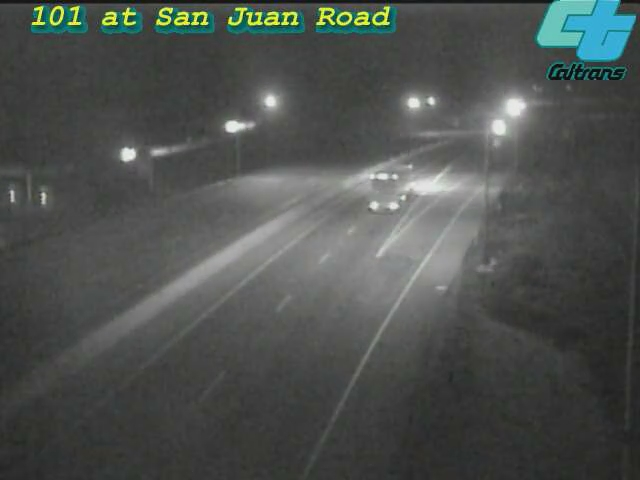vehicle: (355, 147, 435, 227), (476, 102, 526, 152), (487, 83, 537, 133)
